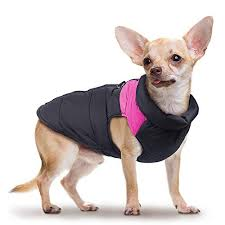chihuahua: (12, 12, 213, 216)
